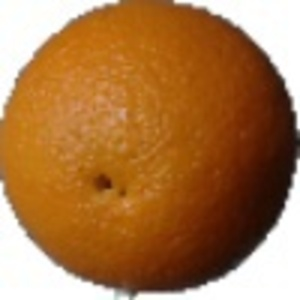laranja: (3, 3, 296, 293)
